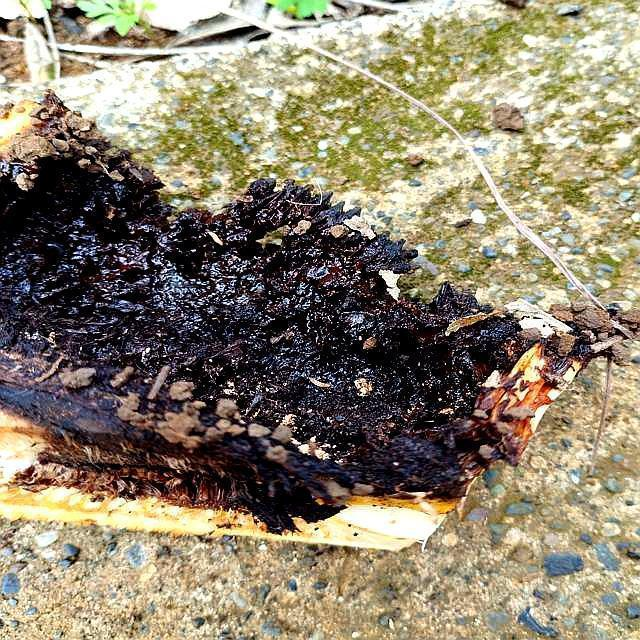Biodegradable: (1, 163, 535, 541)
